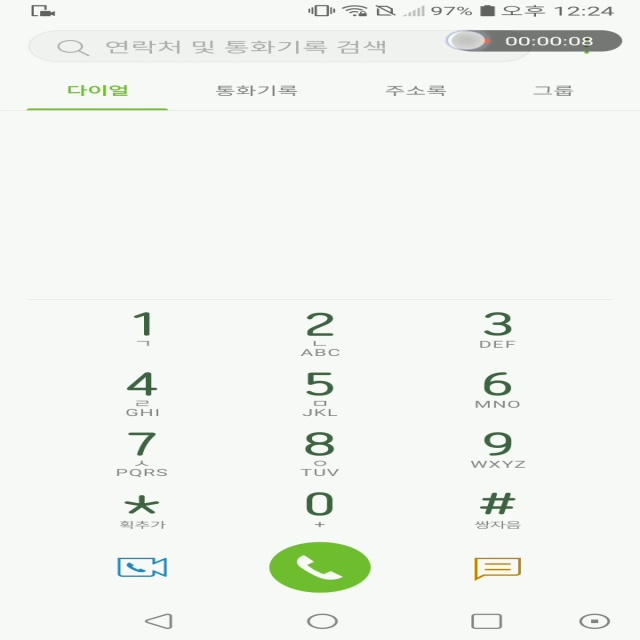Cursor: (445, 29, 489, 52)
